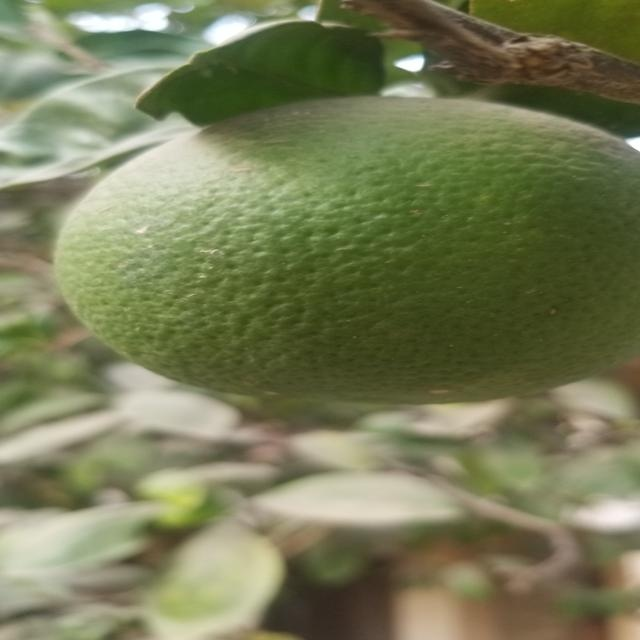agrume: (59, 98, 637, 405)
